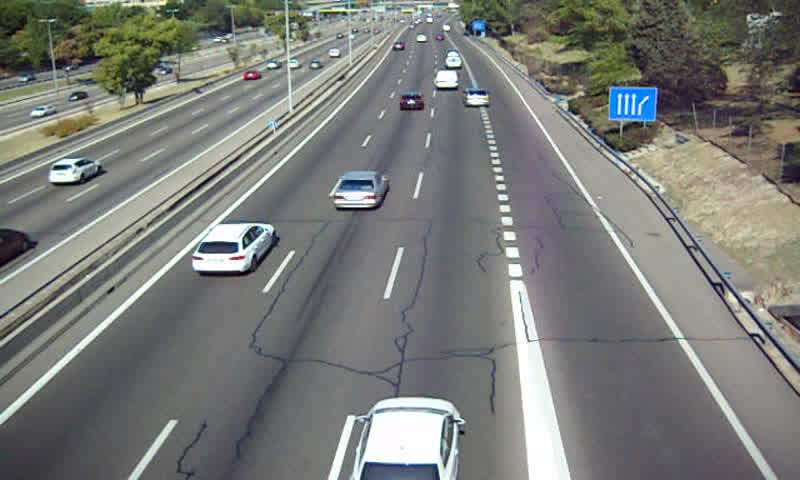car: (355, 396, 462, 480), (191, 222, 275, 274), (333, 170, 388, 211), (464, 86, 492, 108), (397, 93, 425, 112)
van: (434, 70, 459, 91), (447, 55, 463, 70)
